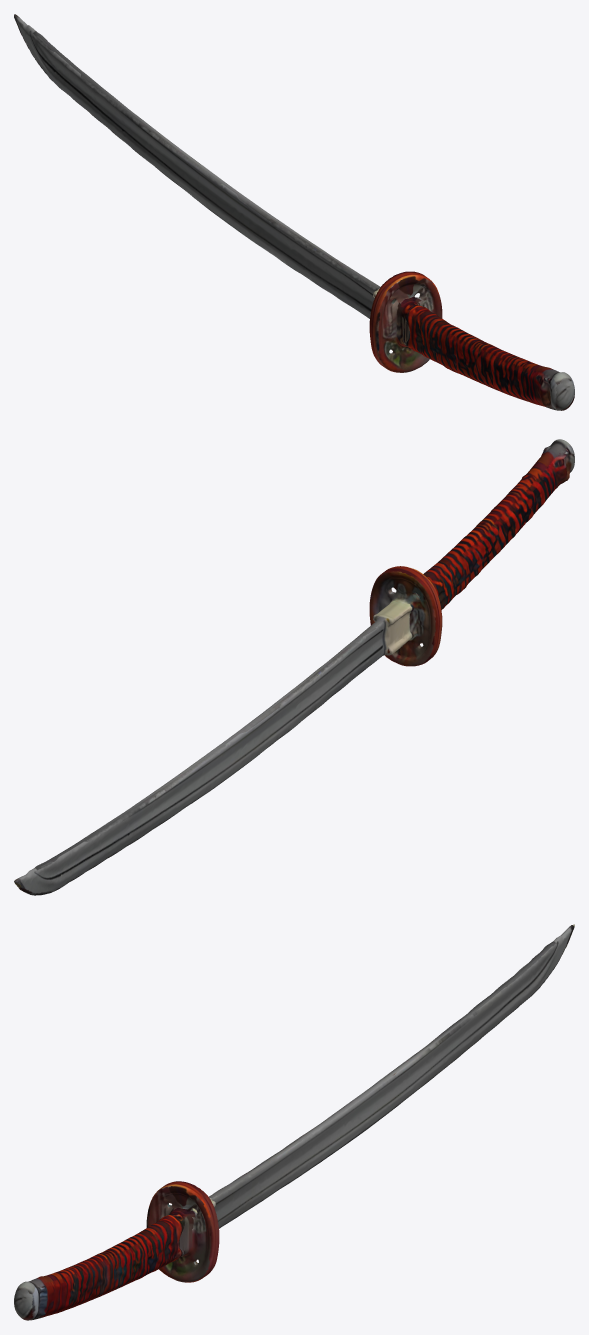
Rendered from katana+3d+model.fbx.
The picture shows the model from 3 angles, top to bottom: view 1: azimuth 30°, elevation 25°; view 2: azimuth 150°, elevation 25°; view 3: azimuth 330°, elevation 25°; orthographic projection.
Visible parts, largest first — view 1: tripo_node_7d925f3a; view 2: tripo_node_7d925f3a; view 3: tripo_node_7d925f3a.
Boxes of the visible parts, <box> form: tripo_node_7d925f3a: <box>14,14,574,410</box>; tripo_node_7d925f3a: <box>14,439,574,895</box>; tripo_node_7d925f3a: <box>14,924,574,1320</box>.
Size of the model in its own units: 0.0703 by 0.1106 by 1.
Materials: 1 (1 with a texture image).
